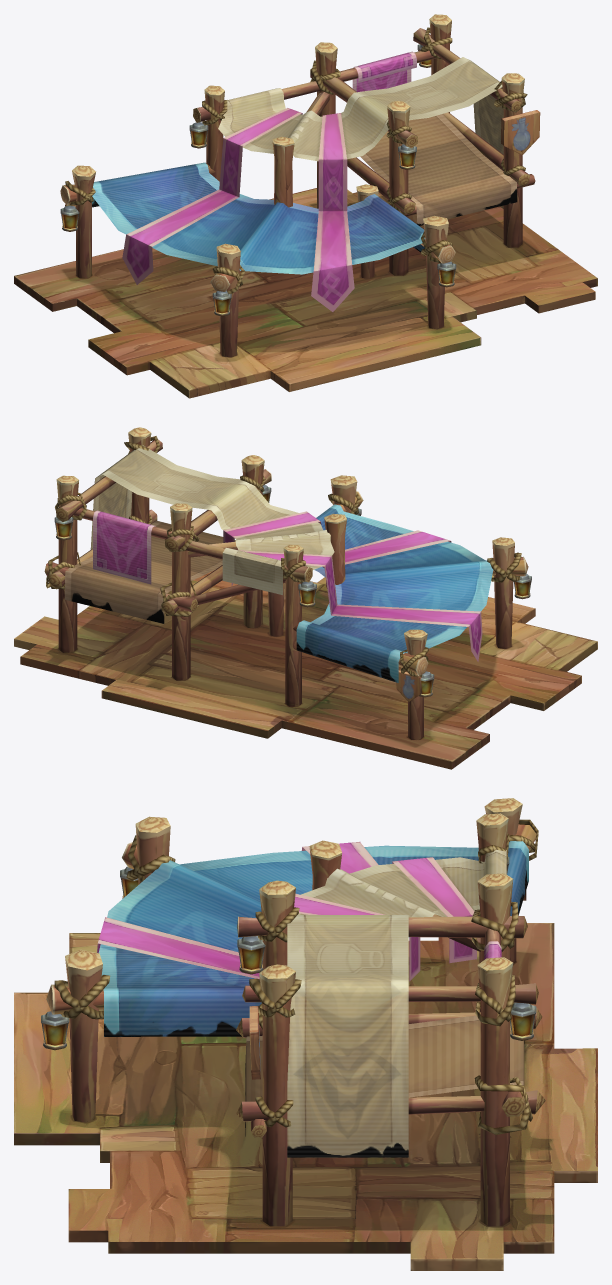
File: map_1001_czzj_15.FBX
3 views of the same model, one above another, from view 1: azimuth 30°, elevation 25°; view 2: azimuth 150°, elevation 25°; view 3: azimuth 270°, elevation 25° (orthographic). The views are drawn at different scales.
Visible parts, largest first — view 1: map_1001_czzj_15; view 2: map_1001_czzj_15; view 3: map_1001_czzj_15.
Boxes of the visible parts, x1=… form: map_1001_czzj_15: x1=14, y1=14, x2=597, y2=398; map_1001_czzj_15: x1=14, y1=427, x2=597, y2=769; map_1001_czzj_15: x1=14, y1=798, x2=597, y2=1270.
Size of the model in its own units: 9.72 by 3.63 by 6.99.
